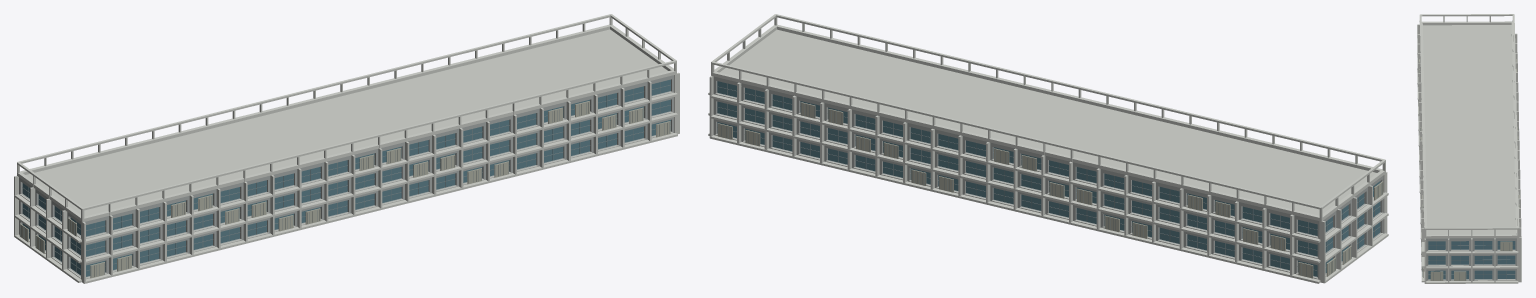
File: lab2.glb
3 views of the same model, side by side, from view 1: azimuth 30°, elevation 25°; view 2: azimuth 150°, elevation 25°; view 3: azimuth 270°, elevation 25° (orthographic). The views are drawn at different scales.
Visible parts, largest first — view 1: trim, roof, glass, wall, screen, metal; view 2: trim, roof, glass, wall, screen, metal; view 3: roof, trim, glass, wall, screen, metal.
Boxes of the visible parts, x1=… form: trim: x1=14, y1=14, x2=679, y2=283; roof: x1=26, y1=29, x2=668, y2=216; glass: x1=22, y1=79, x2=670, y2=276; wall: x1=19, y1=75, x2=673, y2=278; screen: x1=19, y1=101, x2=670, y2=278; metal: x1=20, y1=82, x2=670, y2=277; trim: x1=708, y1=14, x2=1388, y2=283; roof: x1=720, y1=29, x2=1376, y2=215; glass: x1=717, y1=81, x2=1380, y2=276; wall: x1=713, y1=76, x2=1383, y2=279; screen: x1=717, y1=102, x2=1383, y2=278; metal: x1=717, y1=83, x2=1382, y2=277; roof: x1=1423, y1=25, x2=1515, y2=234; trim: x1=1417, y1=14, x2=1521, y2=283; glass: x1=1428, y1=241, x2=1515, y2=279; wall: x1=1426, y1=238, x2=1516, y2=280; screen: x1=1419, y1=59, x2=1519, y2=280; metal: x1=1419, y1=70, x2=1519, y2=280.
Bounding box in the file's own units: 85.04 × 9.9 × 17.34.
Materials: 6 (1 with a texture image).
